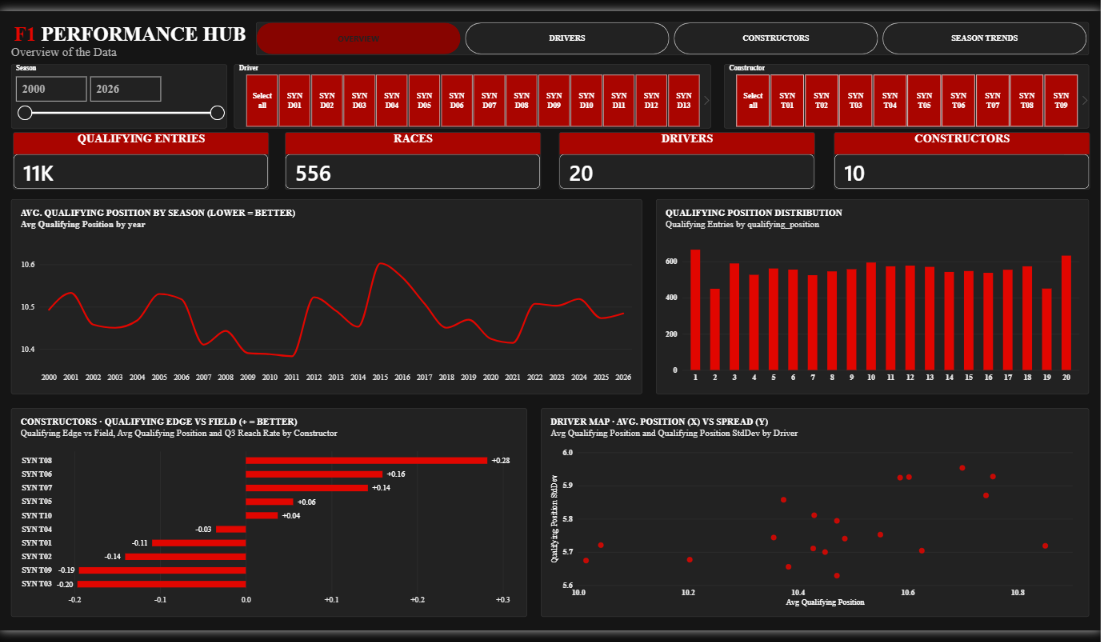

This screenshot's page, from the dashboard's own definition file:
{"tool":"powerbi","page":{"name":"OVERVIEW","canvas":[1920,1080],"ordinal":0},"visuals":[{"type":"textbox","box":[19.2,19.2,415.1,73.3],"z":10},{"type":"pageNavigator","box":[446.5,19.2,1452.9,57.6],"z":30},{"type":"slicer","fields":{"Values":["DimSeason.year"]},"box":[19.2,92.4,376.7,111.6],"z":40},{"type":"slicer","fields":{"Values":["DimDriver.Driver"]},"box":[408.3,91.7,831.7,111.7],"z":50},{"type":"slicer","fields":{"Values":["DimConstructor.Constructor"]},"box":[1263.3,91.7,636.7,111.7],"z":60},{"type":"cardVisual","title":"QUALIFYING ENTRIES","fields":{"Data":["Qualifying.Qualifying Entries"]},"box":[22.7,211,446,100],"z":80},{"type":"cardVisual","title":"RACES","fields":{"Data":["Qualifying.Synthetic Races"]},"box":[497.9,211.3,446,100],"z":100},{"type":"cardVisual","title":"DRIVERS","fields":{"Data":["Qualifying.Synthetic Drivers"]},"box":[975,211.7,446,100],"z":120},{"type":"cardVisual","title":"CONSTRUCTORS","fields":{"Data":["Qualifying.Synthetic Constructors"]},"box":[1454.7,211,446,100],"z":140},{"type":"lineChart","title":"AVG. QUALIFYING POSITION BY SEASON (LOWER = BETTER) ","fields":{"Category":["DimSeason.year"],"Y":["Qualifying.Avg Qualifying Position"]},"box":[19.2,327.9,1100.6,340.1],"z":150},{"type":"clusteredColumnChart","title":"QUALIFYING POSITION DISTRIBUTION ","fields":{"Category":["Qualifying.synthetic_qualifying_position"],"Y":["Qualifying.Qualifying Entries"]},"box":[1144.2,327.9,755.2,340.1],"z":160},{"type":"clusteredBarChart","title":"CONSTRUCTORS · QUALIFYING EDGE VS FIELD (+ = BETTER) ","fields":{"Category":["DimConstructor.Constructor"],"Y":["Qualifying.Qualifying Edge vs Field"]},"box":[20,692,900,364],"z":170},{"type":"scatterChart","title":"DRIVER MAP · AVG. POSITION (X) VS SPREAD (Y) ","fields":{"Category":["DimDriver.Driver"],"X":["Qualifying.Avg Qualifying Position"],"Y":["Qualifying.Qualifying Position StdDev"]},"box":[944,692,956,364],"z":180}]}

Visuals, with their boxes on the page's 1920x1080 design canvas (x1, y1, x2, y2). These are canvas units, not pixel positions in the 1101x642 screenshot, which may show the page scaled, cropped or inside an application window:
textbox: l=19, t=19, r=434, b=92
pageNavigator: l=446, t=19, r=1899, b=77
slicer - DimSeason.year: l=19, t=92, r=396, b=204
slicer - DimDriver.Driver: l=408, t=92, r=1240, b=203
slicer - DimConstructor.Constructor: l=1263, t=92, r=1900, b=203
"QUALIFYING ENTRIES" cardVisual: l=23, t=211, r=469, b=311
"RACES" cardVisual: l=498, t=211, r=944, b=311
"DRIVERS" cardVisual: l=975, t=212, r=1421, b=312
"CONSTRUCTORS" cardVisual: l=1455, t=211, r=1901, b=311
"AVG. QUALIFYING POSITION BY SEASON (LOWER = BETTER) " lineChart: l=19, t=328, r=1120, b=668
"QUALIFYING POSITION DISTRIBUTION " clusteredColumnChart: l=1144, t=328, r=1899, b=668
"CONSTRUCTORS · QUALIFYING EDGE VS FIELD (+ = BETTER) " clusteredBarChart: l=20, t=692, r=920, b=1056
"DRIVER MAP · AVG. POSITION (X) VS SPREAD (Y) " scatterChart: l=944, t=692, r=1900, b=1056
